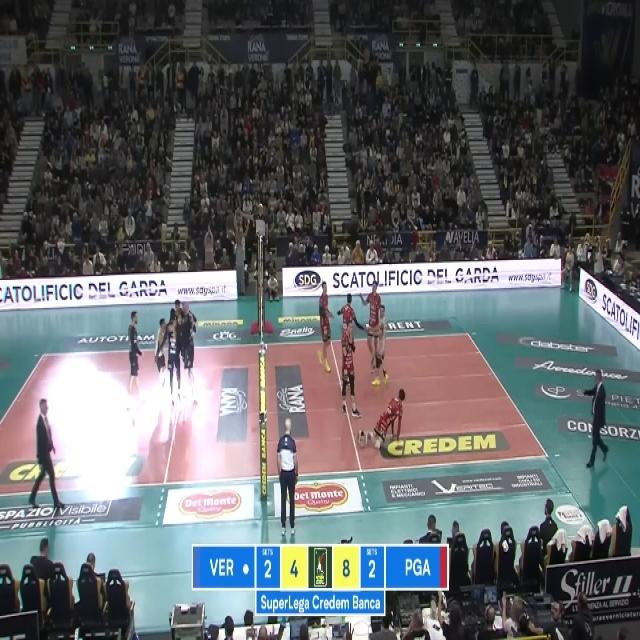volleyball court: (0, 329, 550, 496)
